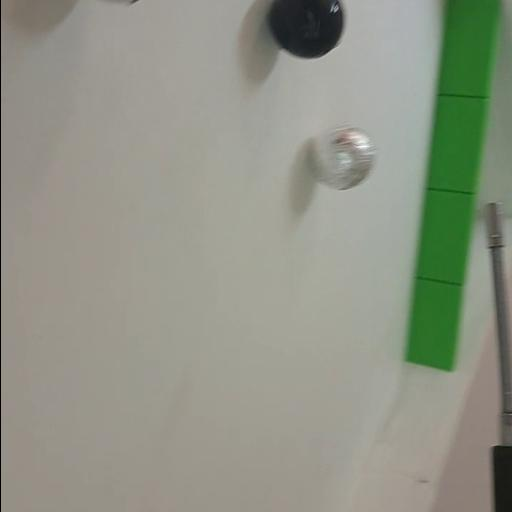alive: (309, 124, 379, 194)
dead: (268, 0, 346, 62)
